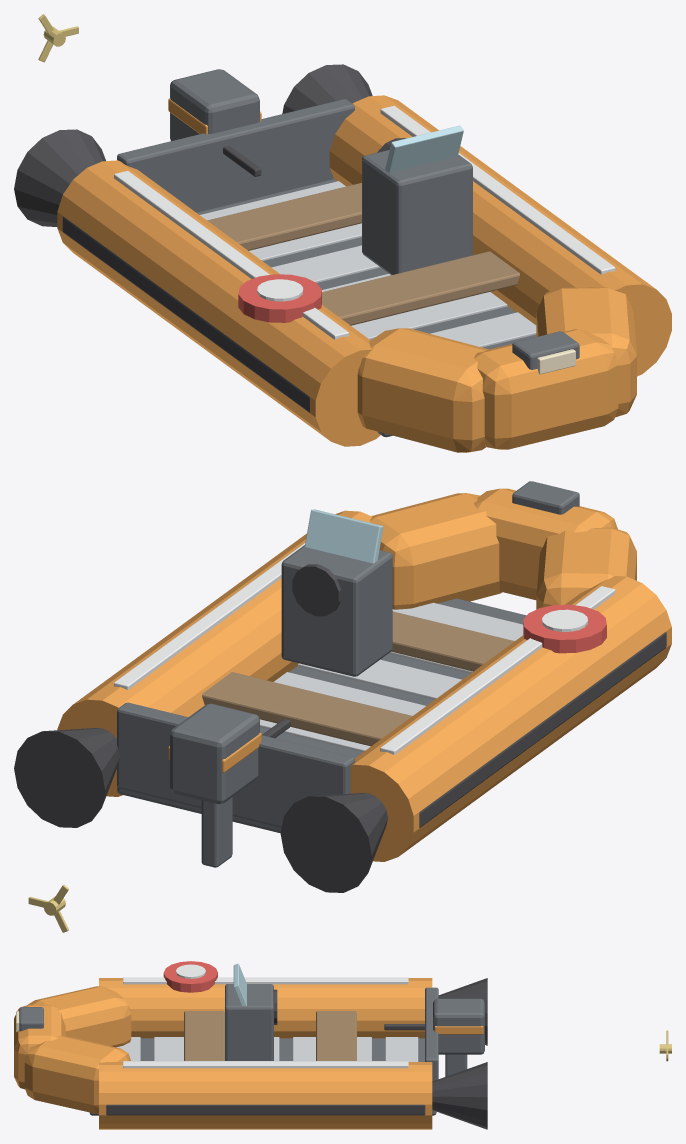
The model's file is SM_ZodiacBoat.fbx.
The picture shows the model from 3 angles, top to bottom: view 1: azimuth 30°, elevation 25°; view 2: azimuth 150°, elevation 25°; view 3: azimuth 270°, elevation 25°; orthographic projection. The views are drawn at different scales.
Visible parts, largest first — view 1: Zodiac_Hull, Outboard_Pivot, Propeller_Pivot, BowLamp_Lens; view 2: Zodiac_Hull, Outboard_Pivot, SteeringWheel_Pivot, Propeller_Pivot; view 3: Zodiac_Hull, Outboard_Pivot.
Boxes of the visible parts, x1,y1,x2,y2 form: Zodiac_Hull: [14, 64, 671, 452]; Outboard_Pivot: [168, 69, 261, 176]; Propeller_Pivot: [38, 14, 78, 62]; BowLamp_Lens: [537, 349, 575, 374]; Zodiac_Hull: [14, 481, 671, 892]; Outboard_Pivot: [168, 703, 290, 867]; SteeringWheel_Pivot: [292, 564, 341, 616]; Propeller_Pivot: [28, 884, 68, 932]; Zodiac_Hull: [14, 961, 487, 1129]; Outboard_Pivot: [384, 998, 484, 1076].
Bounding box in the file's own units: 196 × 483 × 110.
